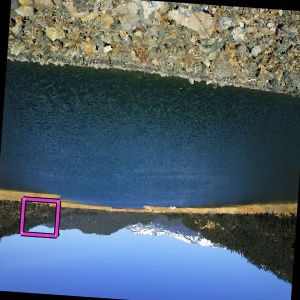square: (17, 194, 63, 240)
